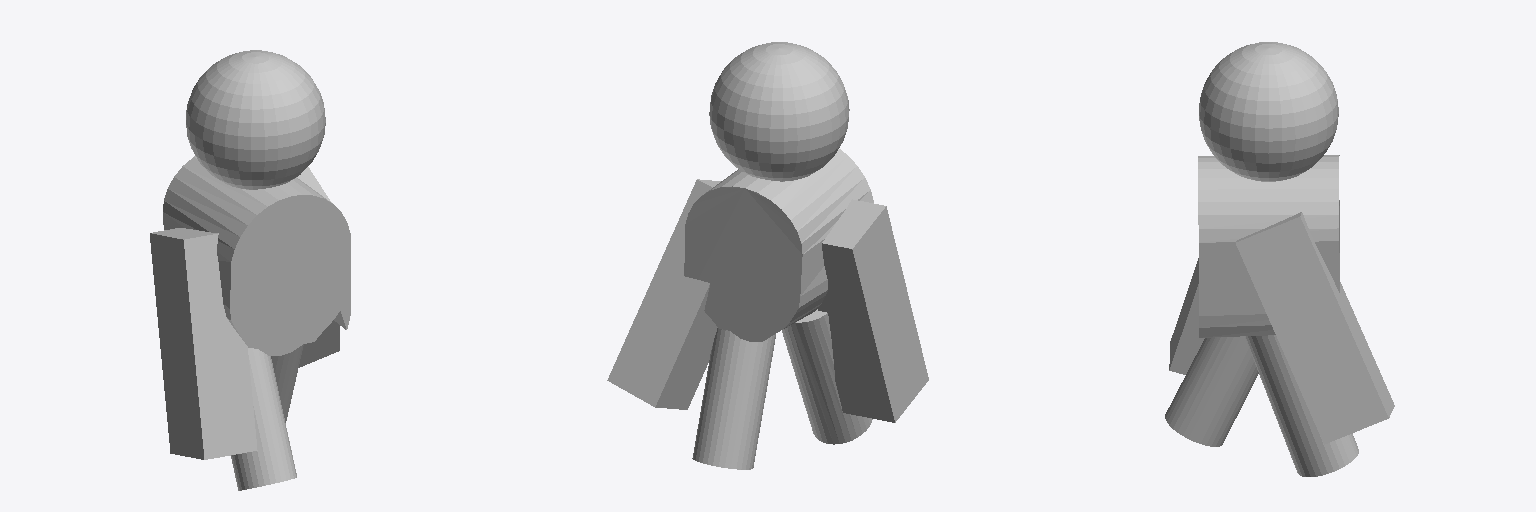
Rendered from Figurine73.obj.
The picture shows the model from 3 angles: view 1: azimuth 30°, elevation 25°; view 2: azimuth 150°, elevation 25°; view 3: azimuth 270°, elevation 25°; orthographic projection.
Visible parts, largest first — view 1: Cylinder; view 2: Cylinder; view 3: Cylinder.
Boxes of the visible parts, x1=… form: Cylinder: x1=150, y1=50, x2=350, y2=490; Cylinder: x1=607, y1=42, x2=928, y2=469; Cylinder: x1=1165, y1=42, x2=1394, y2=476.
Size of the model in its own units: 3.49 by 6.43 by 3.28.